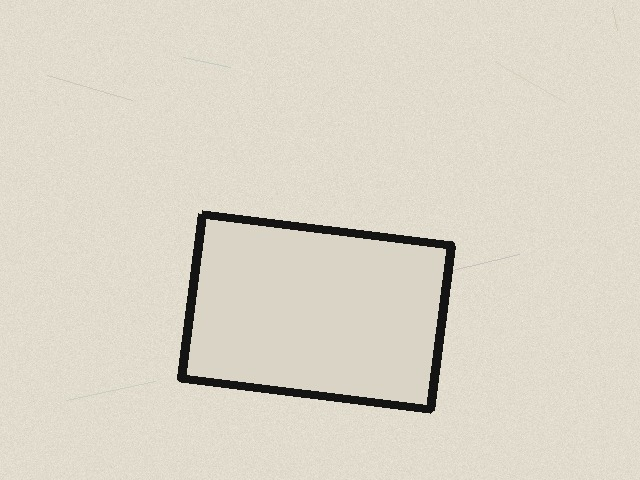parking_area: (181, 214, 451, 409)
